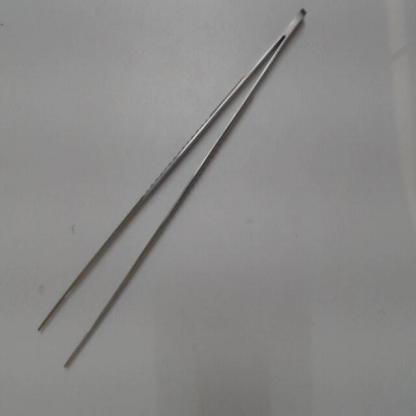DeBakey Dissector: (33, 4, 335, 378)
